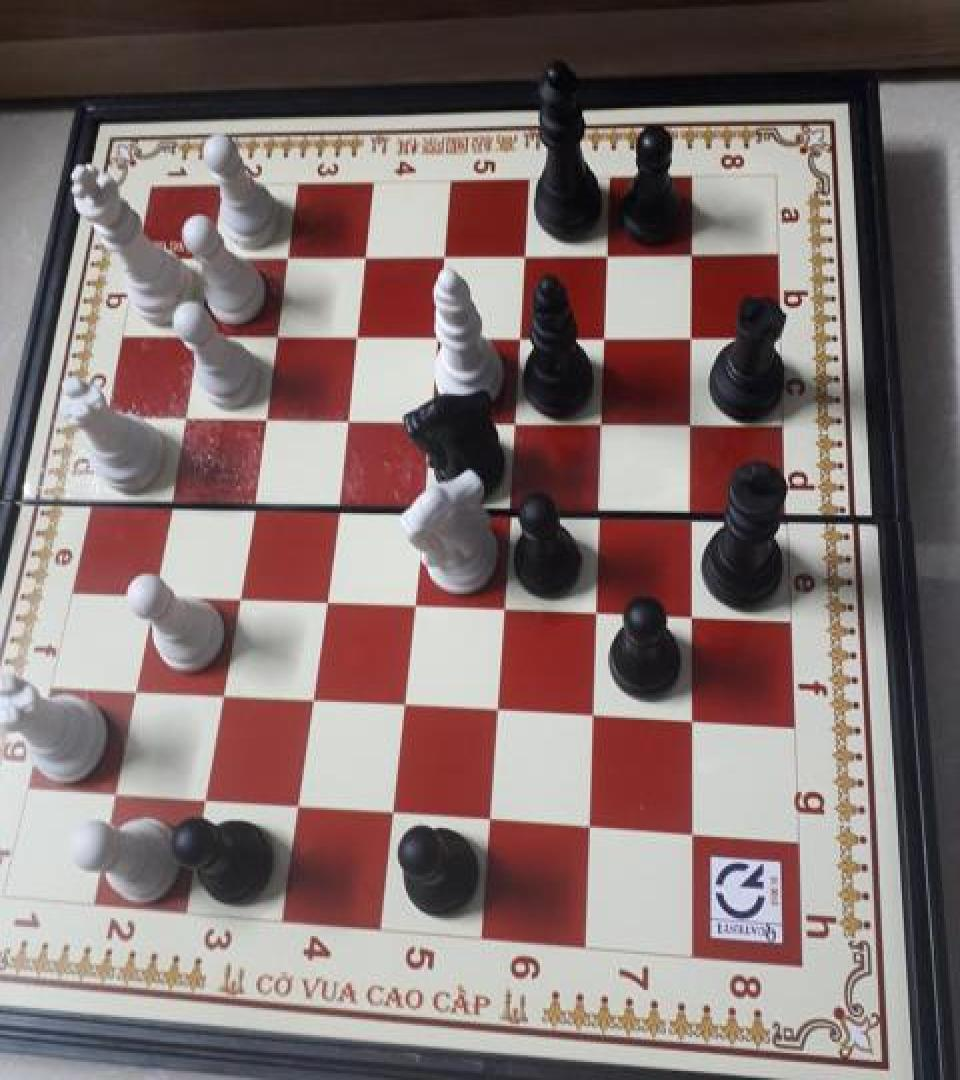xcorner: (591, 237, 625, 276), (508, 237, 542, 276), (676, 317, 710, 356), (588, 317, 622, 356), (503, 317, 537, 356), (419, 317, 453, 356), (338, 317, 372, 356), (258, 317, 292, 356), (180, 317, 214, 356), (328, 400, 362, 439), (385, 686, 419, 725), (676, 236, 710, 274), (427, 238, 461, 276), (347, 240, 381, 278), (270, 240, 304, 278), (194, 241, 228, 279), (675, 405, 709, 443), (585, 404, 619, 442), (497, 403, 531, 441), (411, 402, 445, 440), (246, 400, 280, 438), (165, 398, 199, 436), (675, 498, 709, 536), (582, 495, 616, 533), (492, 493, 526, 531), (403, 490, 437, 528), (317, 488, 351, 526), (232, 486, 266, 524), (150, 484, 184, 522), (675, 595, 709, 633), (579, 592, 613, 630), (485, 588, 519, 626), (394, 585, 428, 623), (305, 582, 339, 620), (218, 578, 252, 616), (133, 575, 167, 613), (675, 701, 709, 739), (576, 696, 610, 734), (479, 691, 513, 729), (293, 681, 327, 719), (203, 676, 237, 714), (116, 672, 150, 710), (675, 814, 709, 852), (572, 807, 606, 845), (472, 800, 506, 838), (374, 794, 408, 832), (280, 788, 314, 826), (187, 781, 221, 819), (97, 775, 131, 813)
